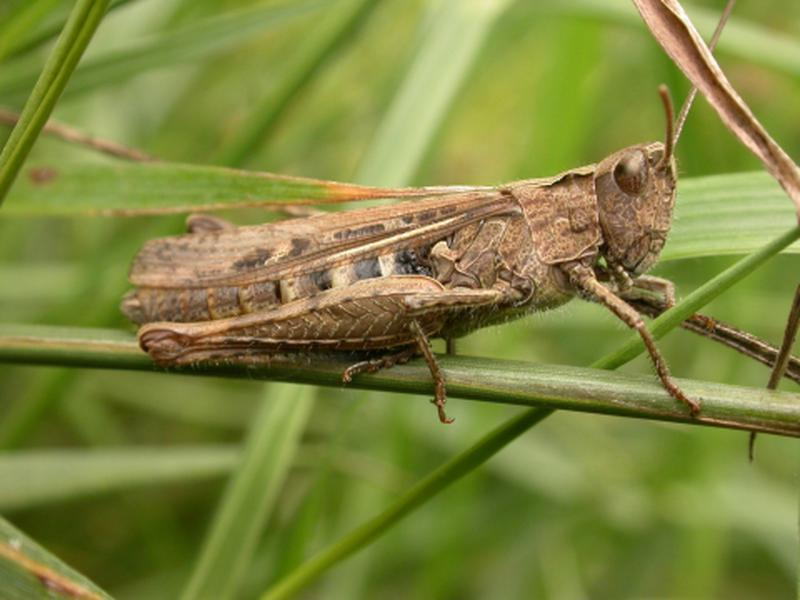Grasshopper: (98, 137, 687, 439)
